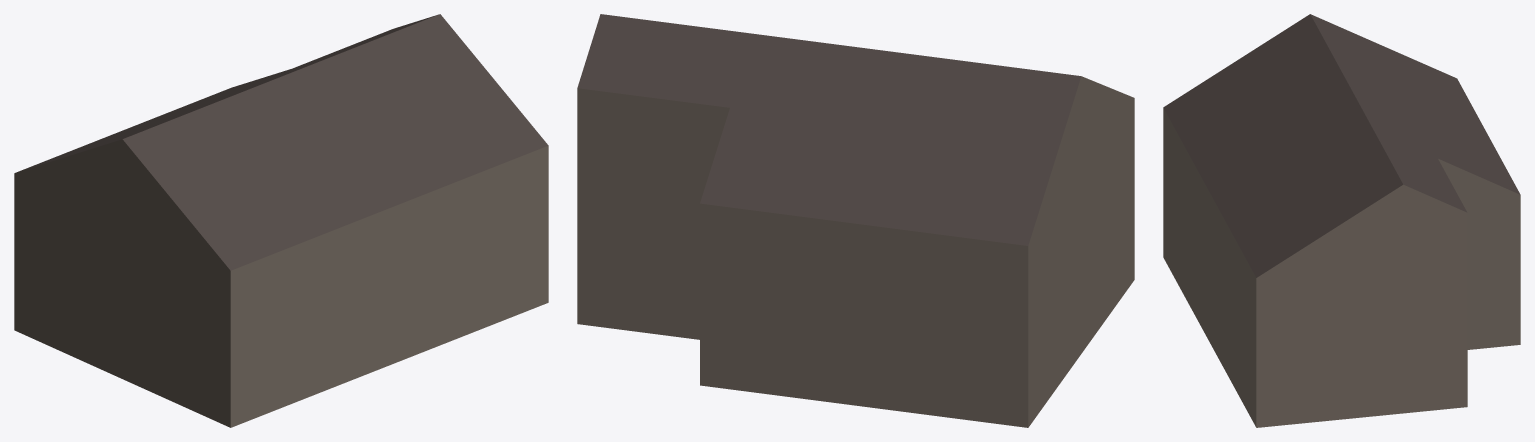
3 renders of one model, left to right at view 1: azimuth 30°, elevation 25°; view 2: azimuth 150°, elevation 25°; view 3: azimuth 270°, elevation 25°, orthographic. The views are drawn at different scales.
Visible parts, largest first — view 1: HP-w1200750009; view 2: HP-w1200750009; view 3: HP-w1200750009.
Boxes of the visible parts, bbox=[...] form: HP-w1200750009: bbox=[14, 14, 548, 427]; HP-w1200750009: bbox=[577, 14, 1134, 427]; HP-w1200750009: bbox=[1163, 14, 1520, 427].
Bounding box in the file's own units: 17.14 × 9.16 × 12.97.
